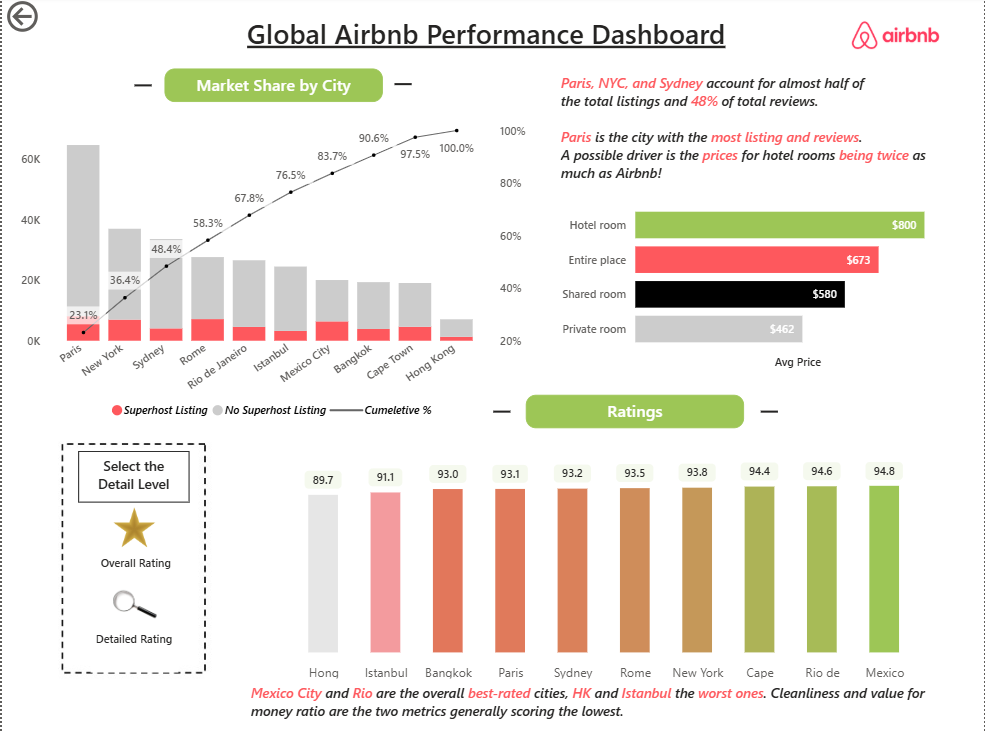

This screenshot's page, from the dashboard's own definition file:
{"tool":"powerbi","page":{"name":"Ratings","canvas":[960,720],"ordinal":1},"visuals":[{"type":"textbox","box":[234.2,13.5,491.6,50.1],"z":0},{"type":"image","box":[799.7,12.2,149.2,51.4],"z":1000},{"type":"textbox","box":[159,70.9,214,33],"z":2000},{"type":"textbox","box":[541.7,70.9,390.1,135.7],"z":3000},{"type":"lineStackedColumnComboChart","fields":{"Category":["Listings.city"],"Y":["Listings.Superhost Listing","Listings.NoSuperhost Listing"],"Y2":["Listings.Cumeletive %"]},"box":[13.5,116.2,505,306.9],"z":4000},{"type":"barChart","fields":{"Y":["Listings.Avg Price"],"Category":["Listings.room_type"]},"box":[541.7,184.6,401.1,184.6],"z":5000},{"type":"columnChart","fields":{"Y":["Listings.Avg Rating"],"Category":["Listings.city"]},"box":[234.8,445.1,673.8,248.2],"z":6000},{"type":"image","box":[0,380.3,256.8,339.9],"z":7000},{"type":"pivotTable","fields":{"Rows":["Listings.city"],"Values":["Listings.Accuricy","Listings.Clinliness","Listings.Communication","Listings.Location","Listings.Value"]},"box":[216.4,432.9,715.4,260.5],"z":8000},{"type":"image","box":[108.8,564.9,42.8,59.9],"z":8000,"group":"g2"},{"type":"actionButton","box":[0,0,100,40],"z":9000},{"type":"image","box":[100.3,500.1,58.7,39.1],"z":9000,"group":"g1"},{"type":"textbox","box":[74.6,445.1,108.8,50.1],"z":10000},{"type":"group","id":"g1","title":"Group 1","box":[91.7,500.1,86.8,69.7],"z":11000},{"type":"group","id":"g2","title":"Group 2","box":[86.8,564.9,85.6,96.6],"z":12000},{"type":"textbox","box":[91.7,539.2,86.8,30.6],"z":13000,"group":"g1"},{"type":"textbox","box":[238.5,667.7,693.3,52.6],"z":13000},{"type":"textbox","box":[86.8,613.8,85.6,47.7],"z":13001,"group":"g2"},{"type":"textbox","box":[512.4,390.1,214,33],"z":14000},{"type":"shape","box":[129.6,68.5,17.1,37.9],"z":15000},{"type":"shape","box":[384,67.3,17.1,37.9],"z":16000},{"type":"shape","box":[480.6,387.6,17.1,37.9],"z":17000},{"type":"shape","box":[742.3,387.6,17.1,37.9],"z":18000}]}

Visuals, with their boxes in screenshot pixels (x1, y1, x2, y2), scaled from the page's 960x720 canvas onto the 985x731 screenshot:
textbox: rect(240, 14, 745, 65)
image: rect(821, 12, 974, 65)
textbox: rect(163, 72, 383, 105)
textbox: rect(556, 72, 956, 210)
lineStackedColumnComboChart - Listings.city x Listings.Superhost Listing: rect(14, 118, 532, 430)
barChart - Listings.Avg Price x Listings.room_type: rect(556, 187, 967, 375)
columnChart - Listings.Avg Rating x Listings.city: rect(241, 452, 932, 704)
image: rect(0, 386, 263, 730)
pivotTable - Listings.city x Listings.Accuricy: rect(222, 440, 956, 704)
image: rect(112, 574, 156, 634)
actionButton: rect(0, 0, 103, 41)
image: rect(103, 508, 163, 547)
textbox: rect(77, 452, 188, 503)
"Group 1" group: rect(94, 508, 183, 579)
"Group 2" group: rect(89, 574, 177, 672)
textbox: rect(94, 547, 183, 579)
textbox: rect(245, 678, 956, 730)
textbox: rect(89, 623, 177, 672)
textbox: rect(526, 396, 745, 430)
shape: rect(133, 70, 151, 108)
shape: rect(394, 68, 412, 107)
shape: rect(493, 394, 511, 432)
shape: rect(762, 394, 779, 432)
